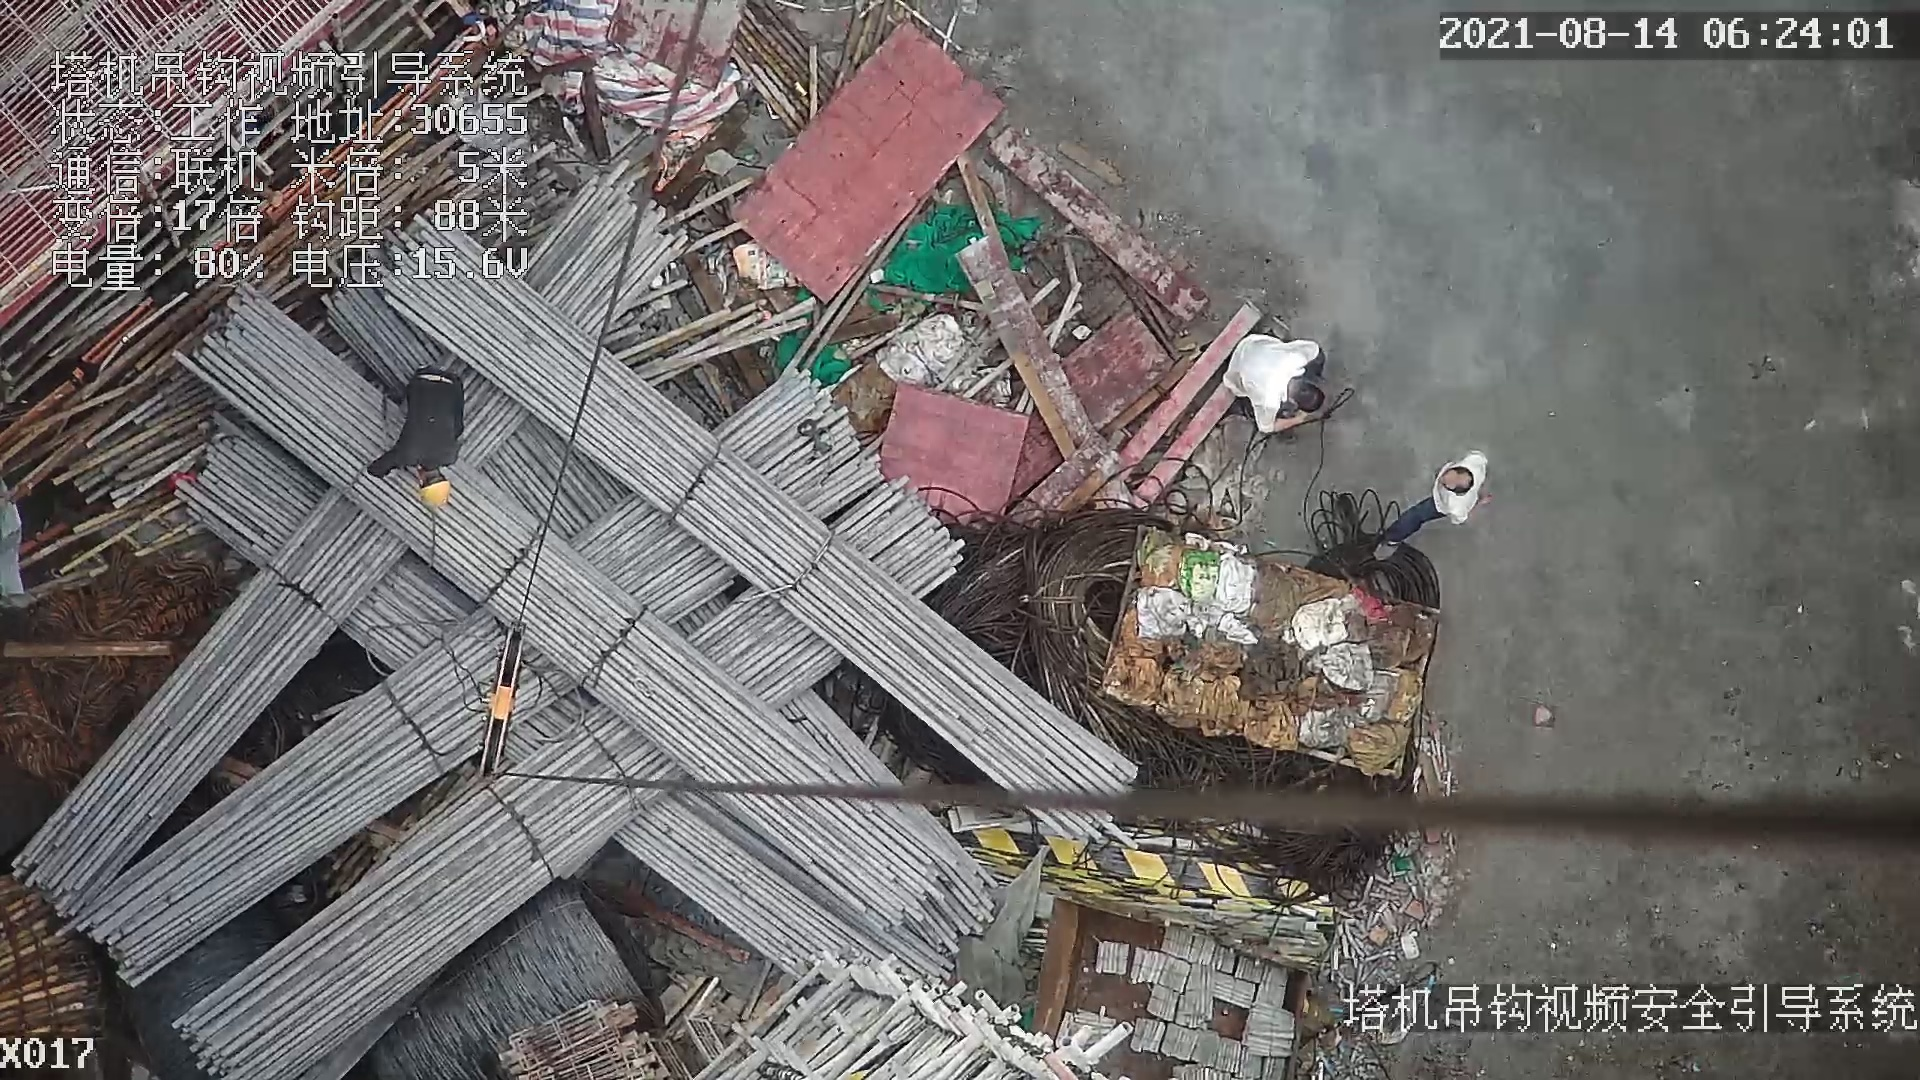helmet: (420, 479, 449, 505)
hook: (476, 622, 529, 769)
person: (370, 365, 465, 509), (1218, 328, 1335, 442), (1377, 450, 1497, 556)
rebar: (177, 285, 954, 926), (379, 279, 1139, 858), (63, 604, 578, 995), (167, 708, 688, 1079), (15, 488, 406, 923)
wood: (1, 883, 83, 1037)
